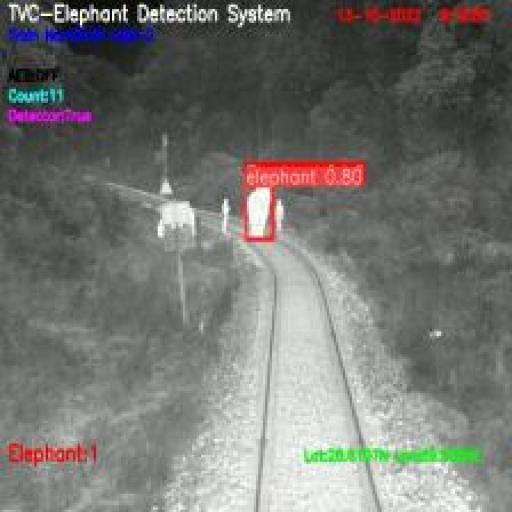Elephant: (247, 185, 274, 240)
